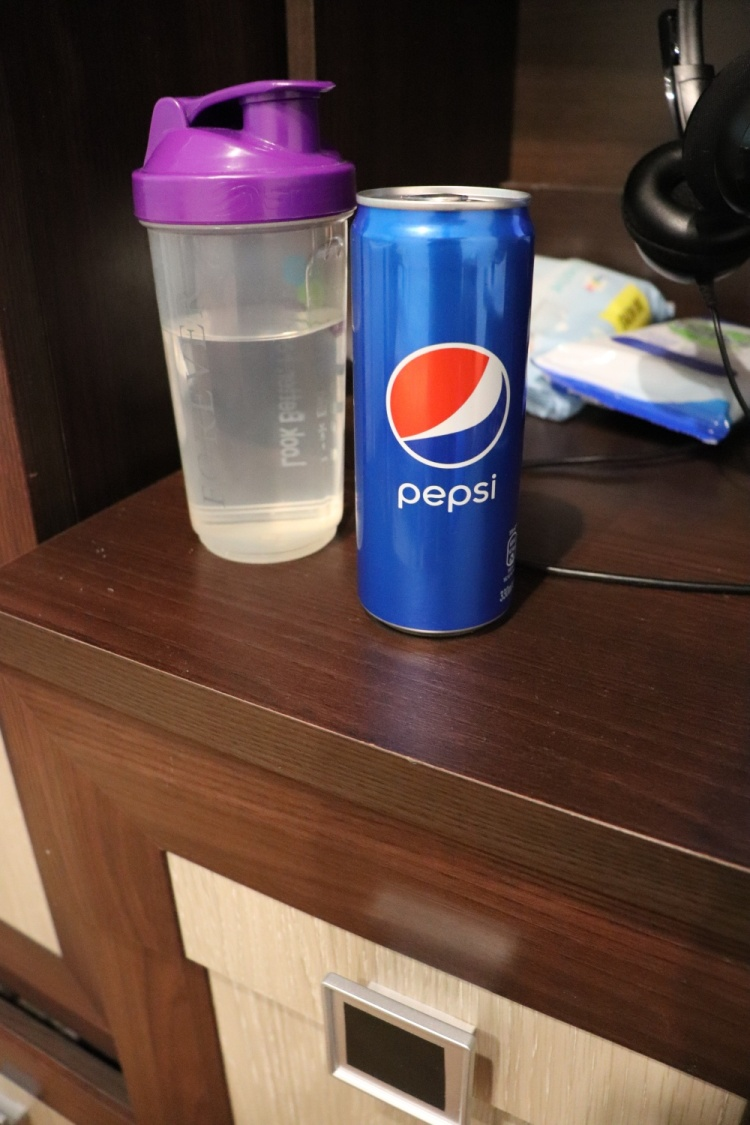pepsi: (341, 184, 536, 644)
